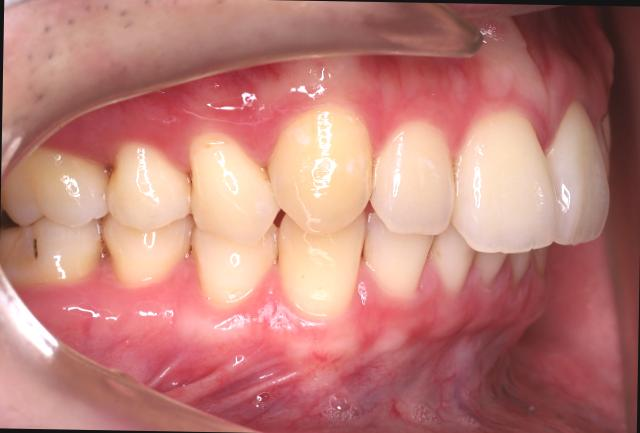canine class II 1/2: (190, 94, 376, 318)
molar class II 3/4: (0, 135, 119, 293)
